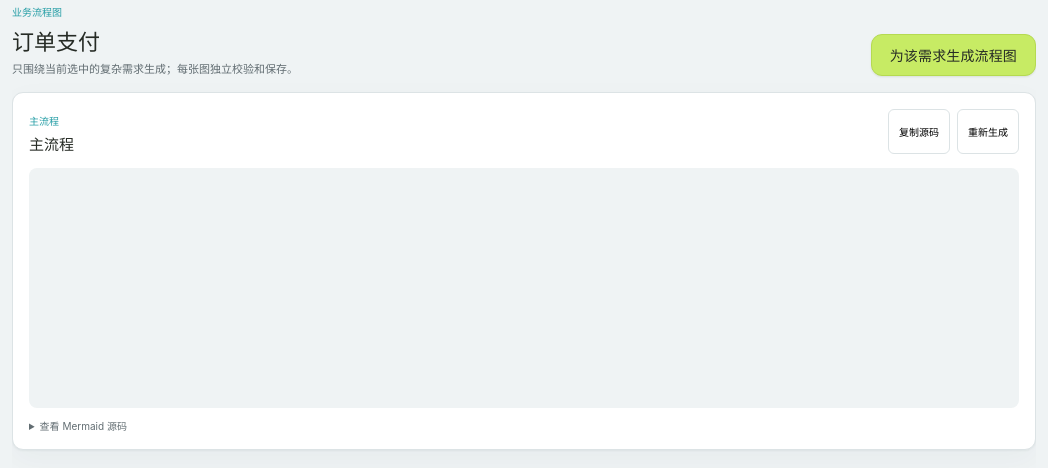
Test: FlowchartView › copies the exact Mermaid source
Click the button "复制源码" at (919, 132), box [888, 109, 950, 154]
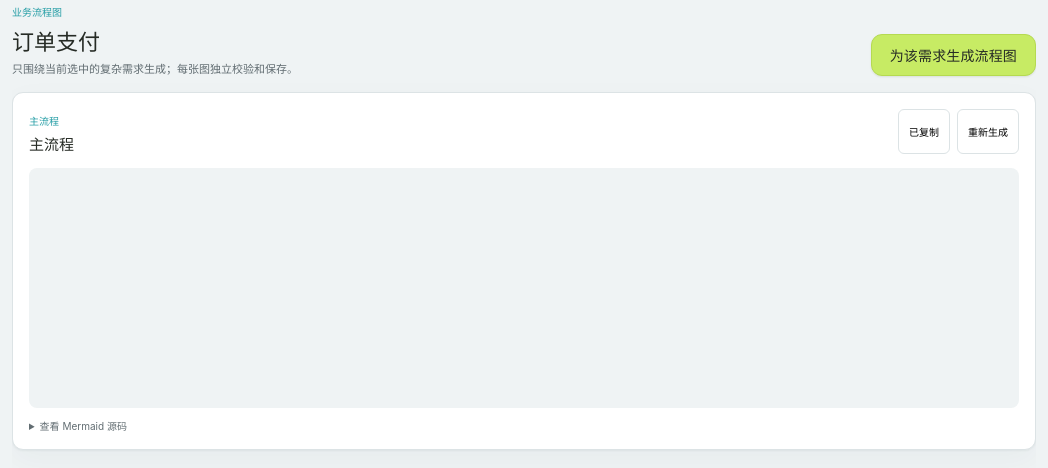
Expected: the text "已复制" is shown, [898, 109, 950, 154]
